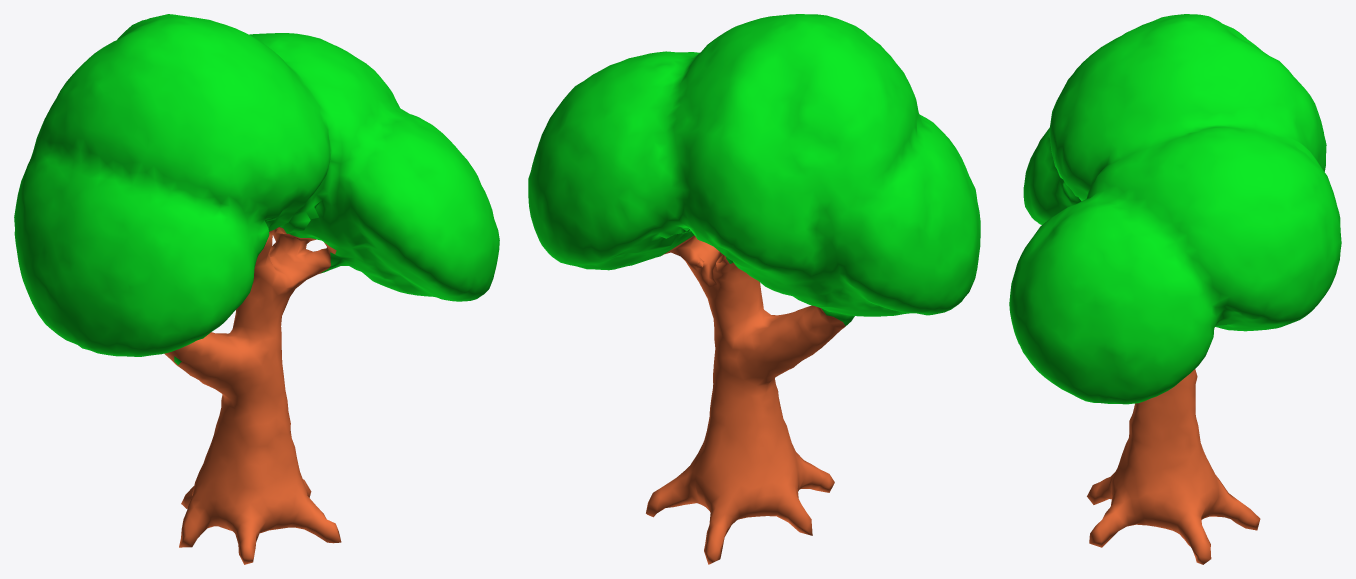
File: tree_simple.glb
The picture shows the model from 3 angles, left to right: view 1: azimuth 30°, elevation 25°; view 2: azimuth 150°, elevation 25°; view 3: azimuth 270°, elevation 25°; orthographic projection. The views are drawn at different scales.
Visible parts, largest first — view 1: Mesh1; view 2: Mesh1; view 3: Mesh1.
Boxes of the visible parts, box(x1,y1,x2,y2) form: Mesh1: box(14, 14, 499, 564); Mesh1: box(528, 14, 980, 564); Mesh1: box(1009, 14, 1341, 564).
Size of the model in its own units: 7.47 by 8.89 by 5.51.
